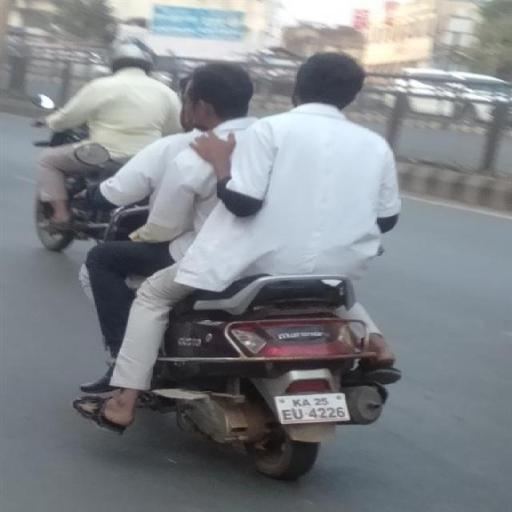tripple riding: (50, 44, 419, 274)
